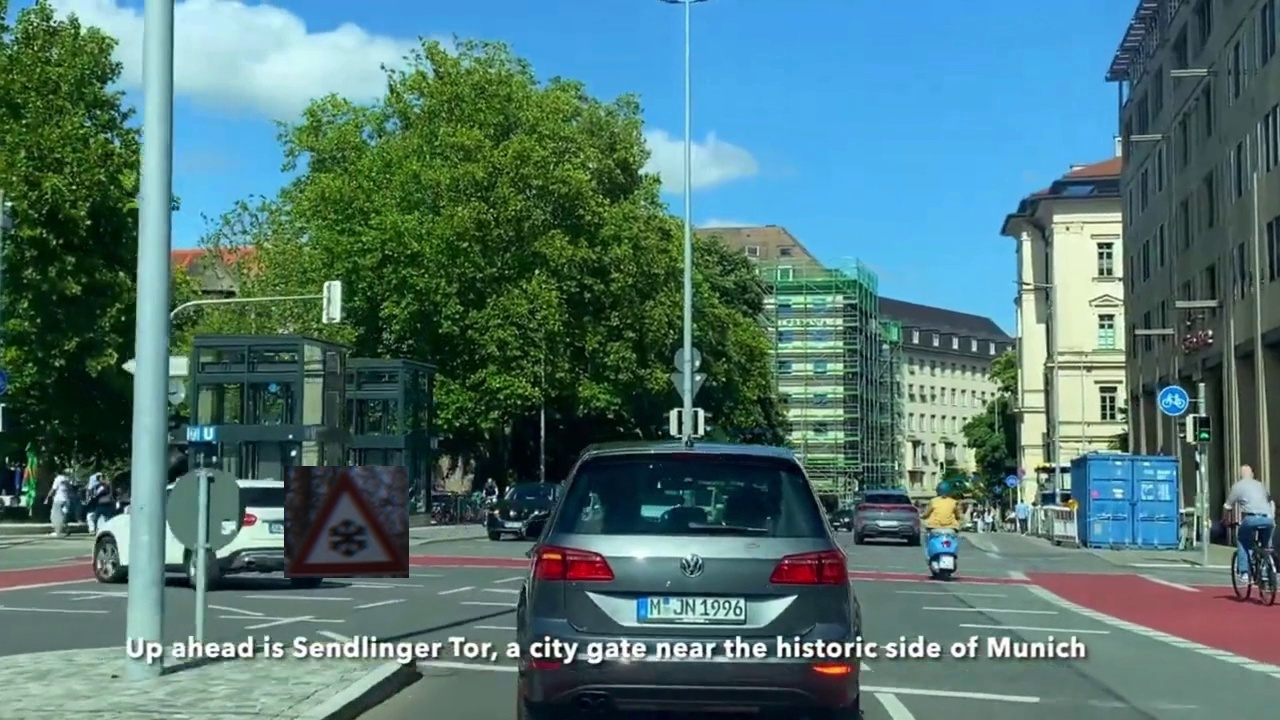Ice/snow: (284, 466, 409, 578)
